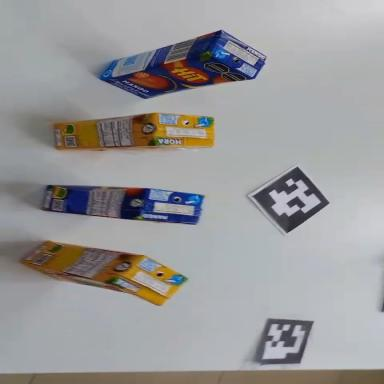HIT-MANGO: (95, 22, 270, 107), (40, 184, 204, 225)
HIT-MORA: (18, 237, 190, 309), (53, 112, 214, 151)
cara_F: (100, 46, 253, 106), (17, 263, 161, 306)
